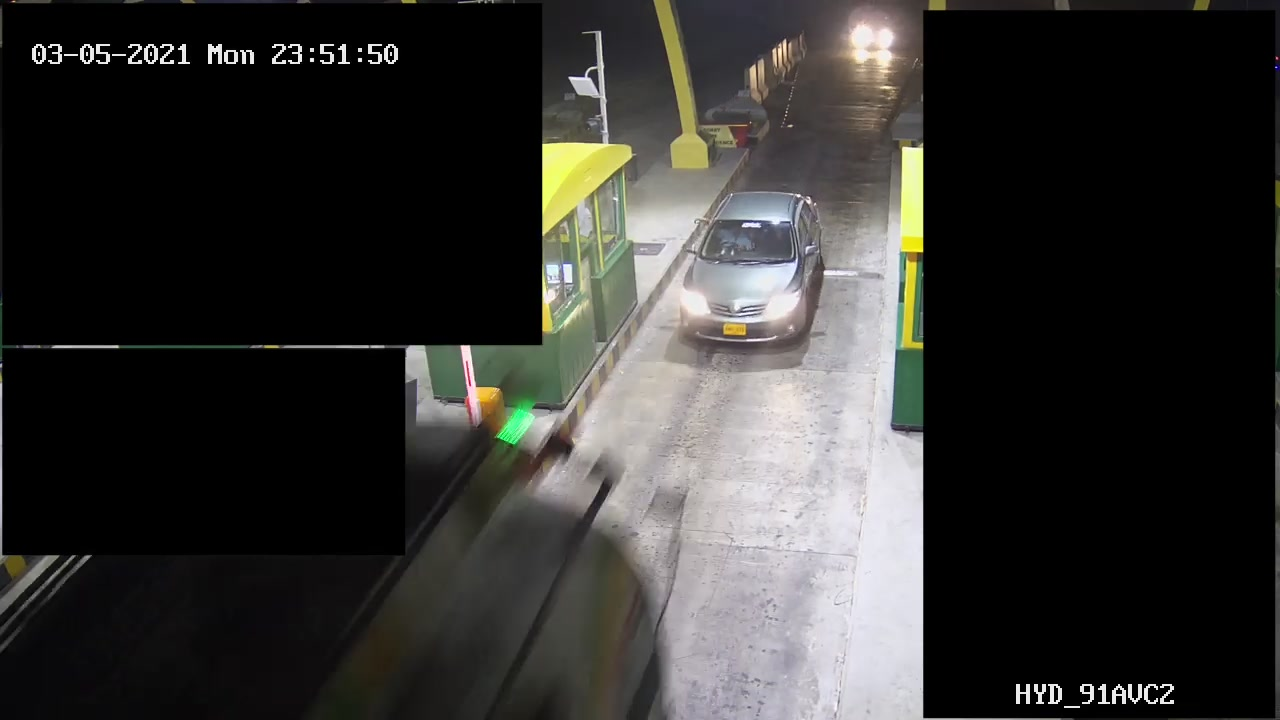F1: (669, 182, 833, 358)
